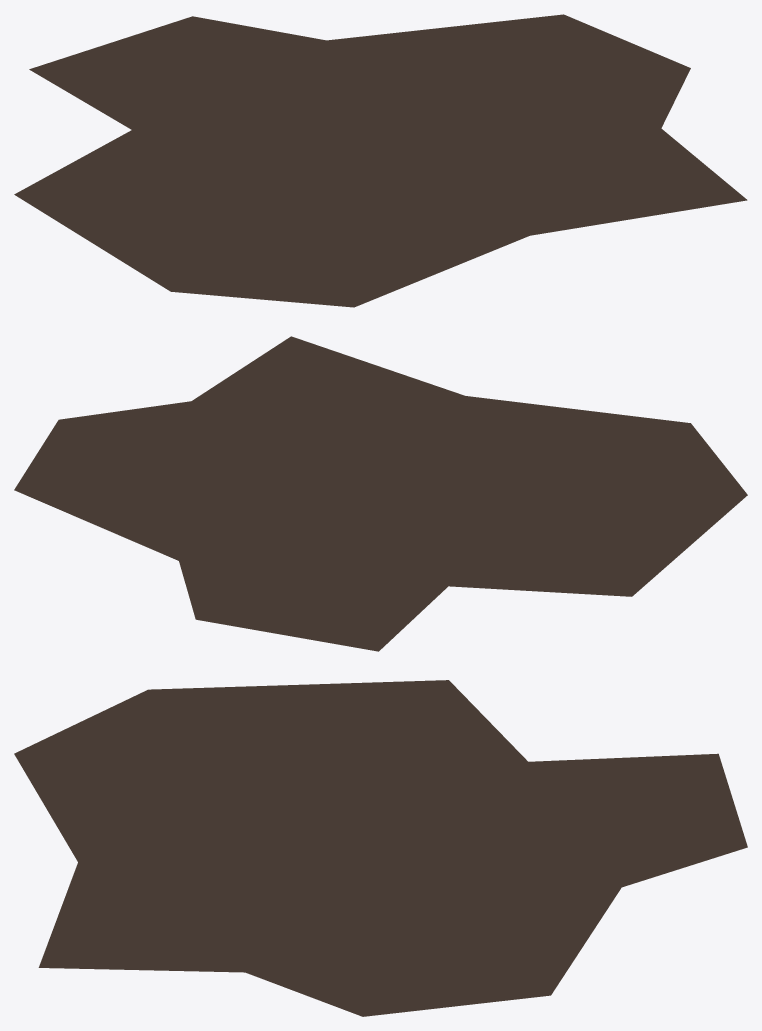
The model's file is Lobang_lv2.fbx.
The picture shows the model from 3 angles, top to bottom: view 1: azimuth 30°, elevation 25°; view 2: azimuth 150°, elevation 25°; view 3: azimuth 270°, elevation 25°; orthographic projection. The views are drawn at different scales.
Parts seen in each view (by area): view 1: Lobang; view 2: Lobang; view 3: Lobang.
Part boxes in pixels (box(x1,y1,x2,y2)): Lobang: box(14, 14, 747, 307); Lobang: box(14, 336, 747, 651); Lobang: box(14, 680, 747, 1016).
Size of the model in its own units: 207 by 3.11e-05 by 191.
